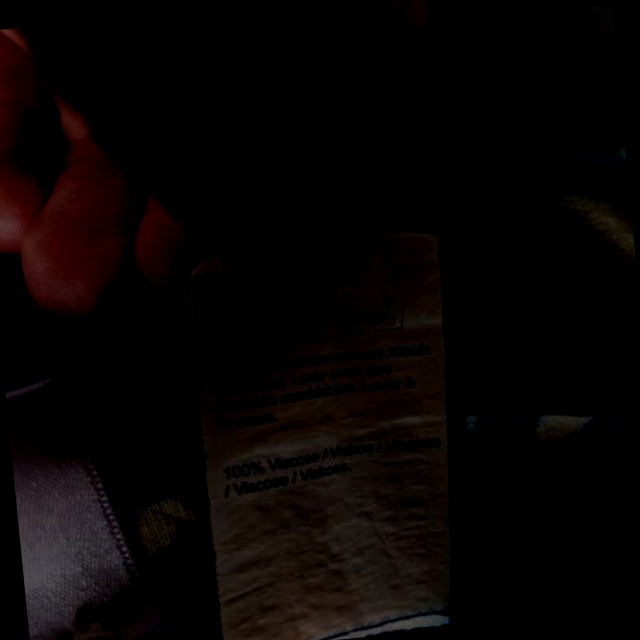50C: (224, 315, 265, 347), (335, 305, 369, 339)
60C: (263, 310, 298, 344), (301, 309, 334, 343)
70C: (368, 303, 411, 335)
